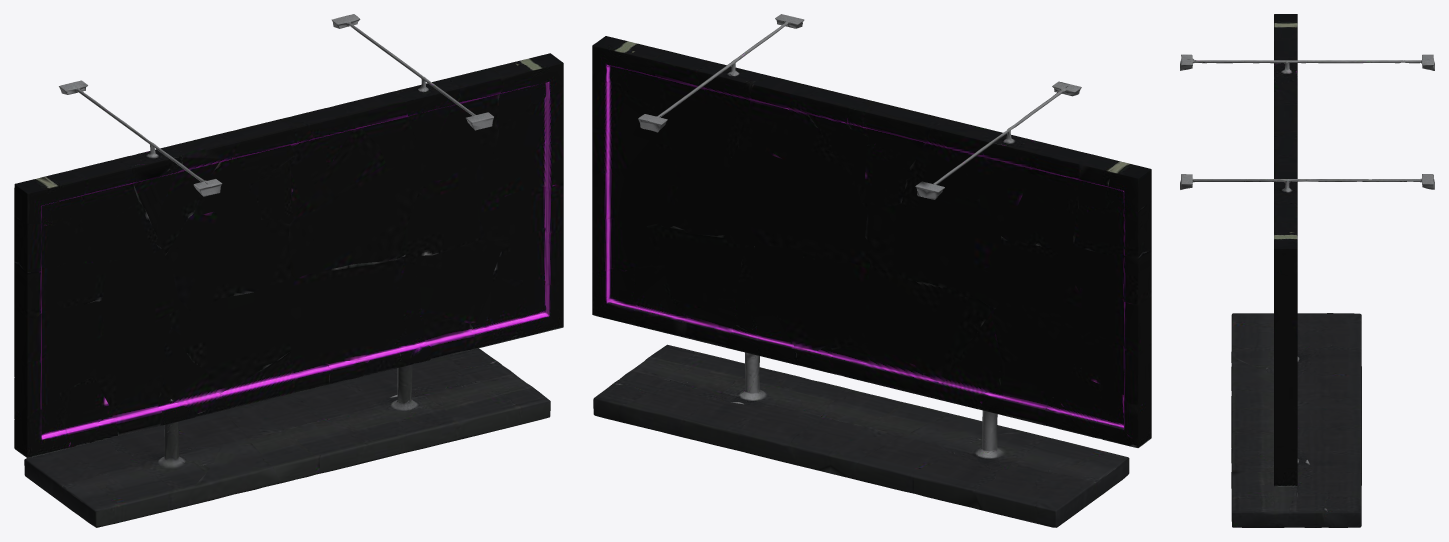
File: billboard_h_p.glb
3 views of the same model, side by side, from view 1: azimuth 30°, elevation 25°; view 2: azimuth 150°, elevation 25°; view 3: azimuth 270°, elevation 25° (orthographic). The views are drawn at different scales.
Size of the model in its own units: 1.9 by 1.16 by 0.871.
1 material, 1 textured.
